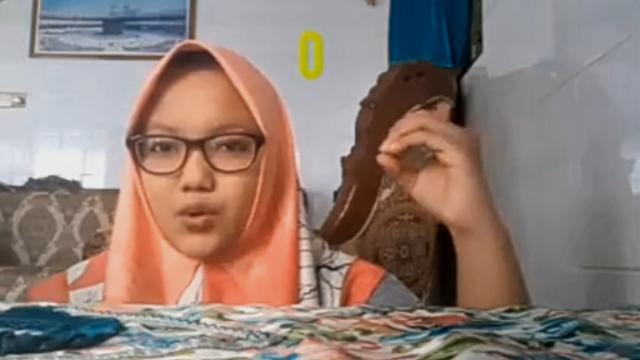O: (370, 104, 504, 236)
